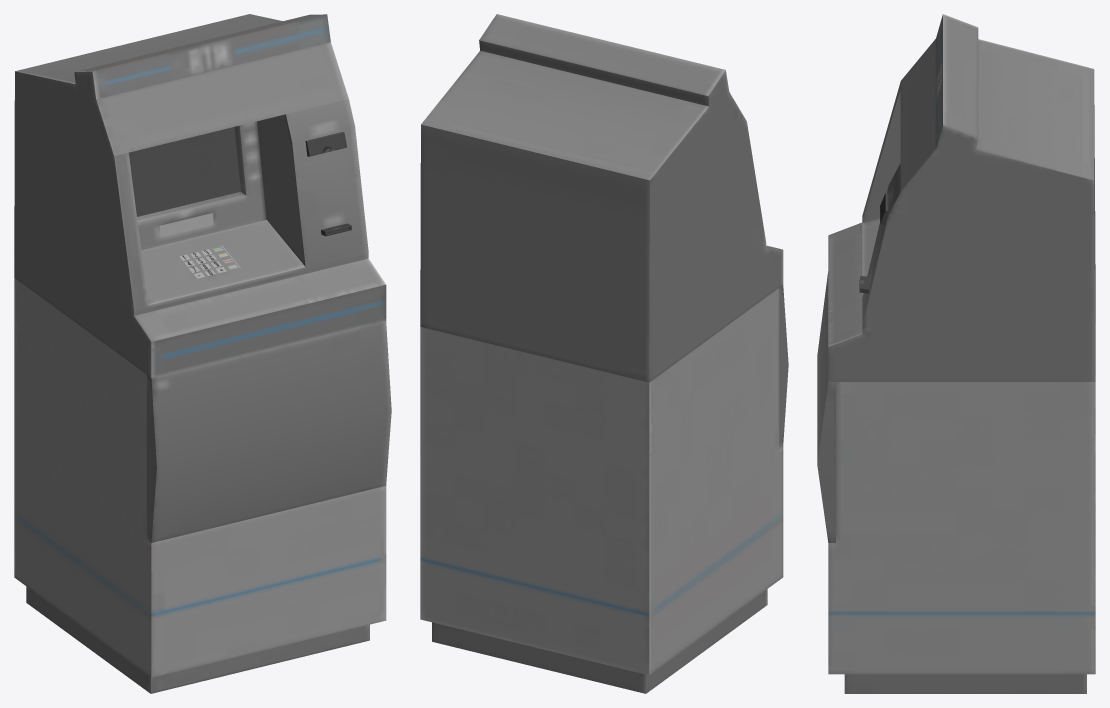
The model's file is CashMachine.fbx.
The picture shows the model from 3 angles, left to right: view 1: azimuth 30°, elevation 25°; view 2: azimuth 150°, elevation 25°; view 3: azimuth 270°, elevation 25°; orthographic projection. The views are drawn at different scales.
Parts seen in each view (by area): view 1: SM_Cash_Machine; view 2: SM_Cash_Machine; view 3: SM_Cash_Machine.
Boxes of the visible parts, x1,y1,x2,y2 form: SM_Cash_Machine: (14,14,391,693); SM_Cash_Machine: (420,14,788,693); SM_Cash_Machine: (817,14,1095,693).
Bounding box in the file's own units: 0.7829 × 1.87 × 0.8245.
